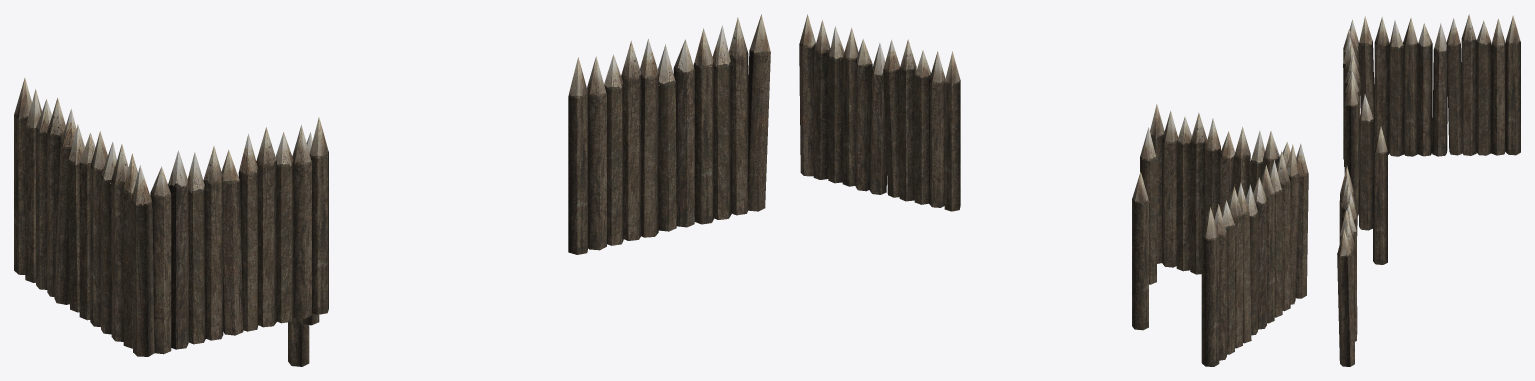
Rendered from celt_temple_palisade.dae.
The picture shows the model from 3 angles, left to right: view 1: azimuth 30°, elevation 25°; view 2: azimuth 150°, elevation 25°; view 3: azimuth 270°, elevation 25°; orthographic projection. The views are drawn at different scales.
Parts seen in each view (by area): view 1: Cube_001; view 2: Cube_001; view 3: Cube_001.
Boxes of the visible parts, x1=… form: Cube_001: x1=14, y1=14, x2=770, y2=366; Cube_001: x1=799, y1=14, x2=1308, y2=366; Cube_001: x1=1337, y1=14, x2=1520, y2=366.
Bounding box in the file's own units: 20.23 × 7.16 × 8.02.
